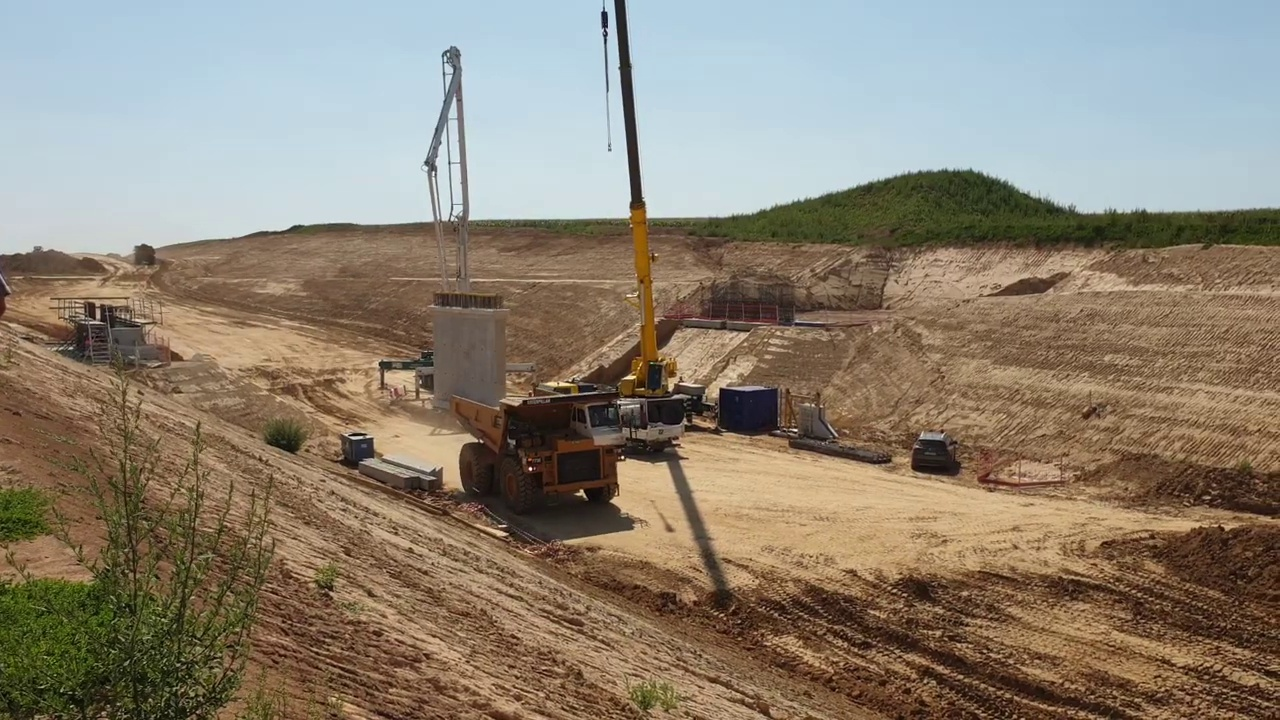crane: (540, 1, 690, 450)
truck: (443, 375, 630, 516)
